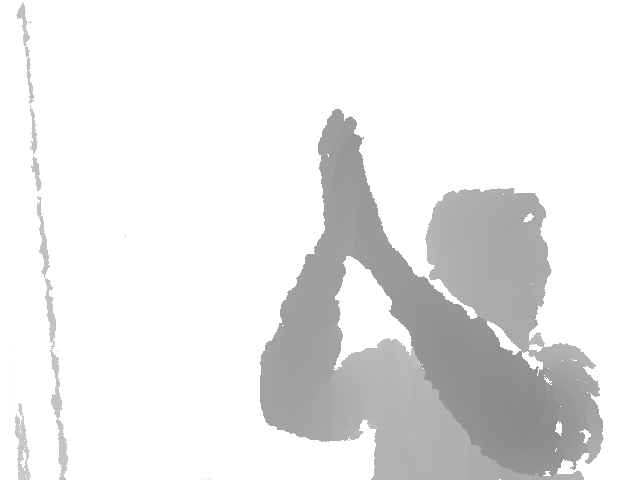hand: (317, 108, 394, 249)
head: (424, 188, 551, 362)
person: (259, 109, 604, 480)
